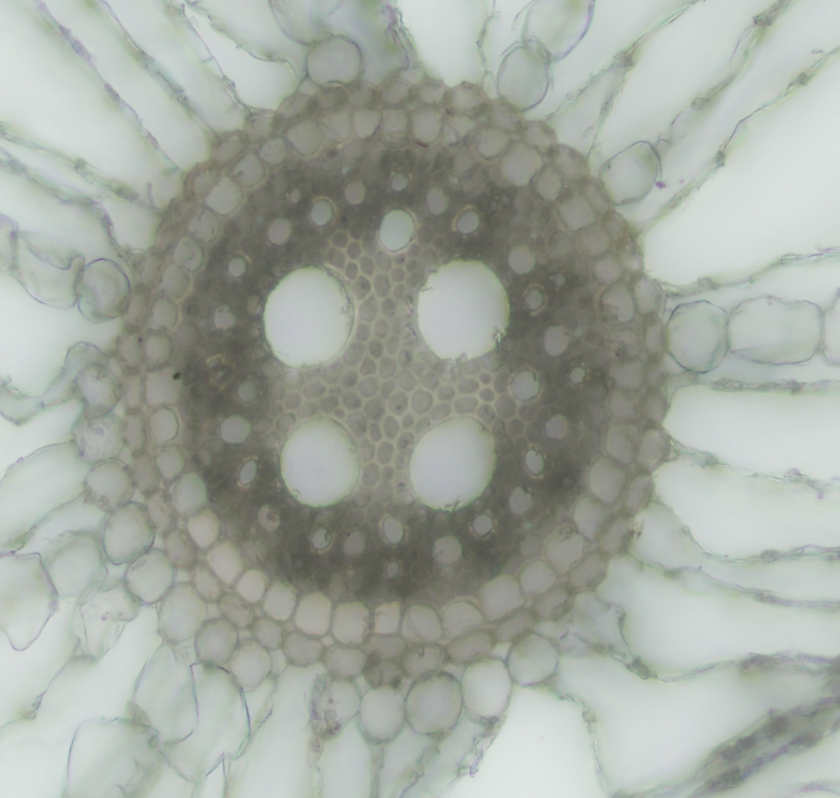lm: (263, 264, 353, 369), (417, 259, 511, 359), (410, 417, 496, 509), (278, 415, 360, 508)
